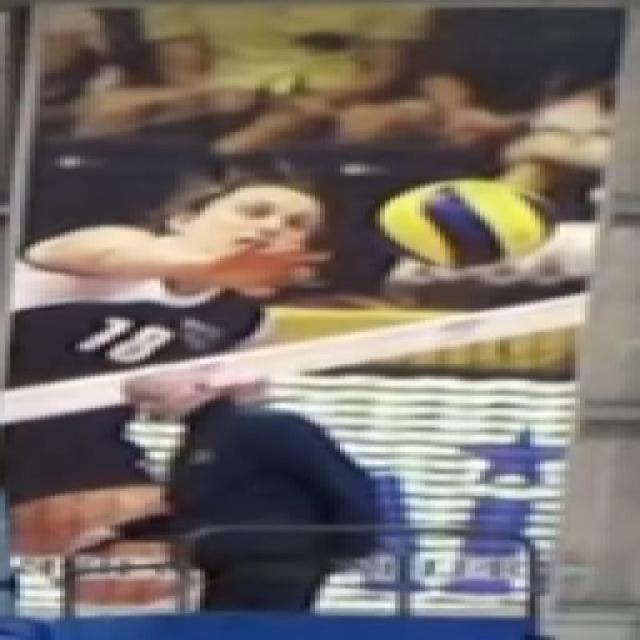volleyball: (360, 174, 575, 274)
